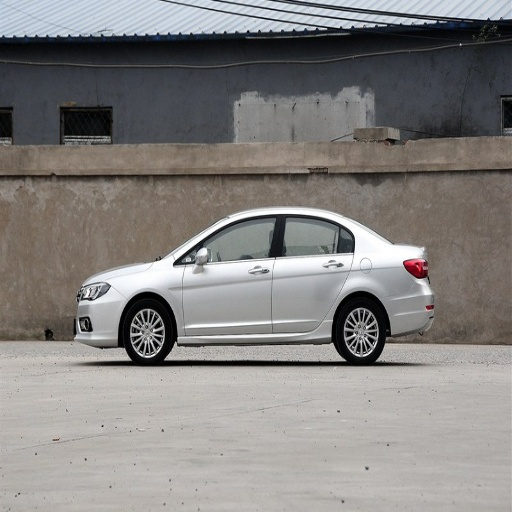back_left_door: (271, 214, 354, 332)
front_left_door: (181, 215, 279, 333)
